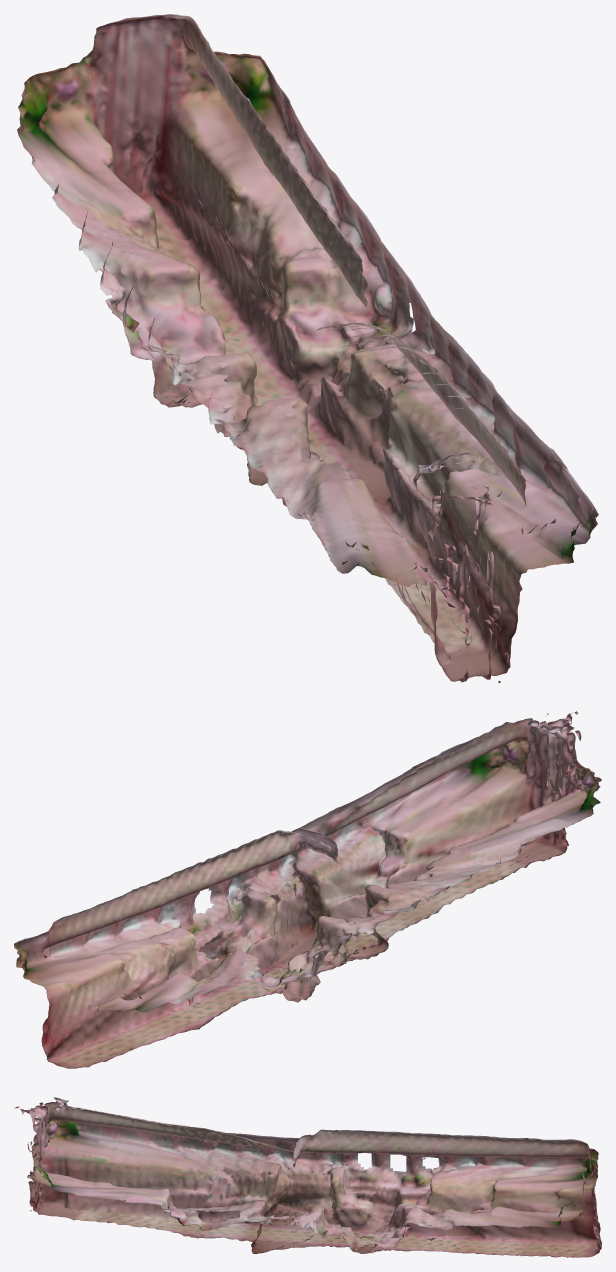
Rendered from pink-cherry-plane-1-1_collider.glb.
The picture shows the model from 3 angles, top to bottom: view 1: azimuth 30°, elevation 25°; view 2: azimuth 150°, elevation 25°; view 3: azimuth 270°, elevation 25°; orthographic projection. The views are drawn at different scales.
Visible parts, largest first — view 1: world; view 2: world; view 3: world.
Boxes of the visible parts, x1,y1,x2,y2 form: world: [17, 14, 598, 682]; world: [14, 711, 601, 1068]; world: [15, 1097, 601, 1257].
Bounding box in the file's own units: 6.01 × 3.18 × 14.61.
